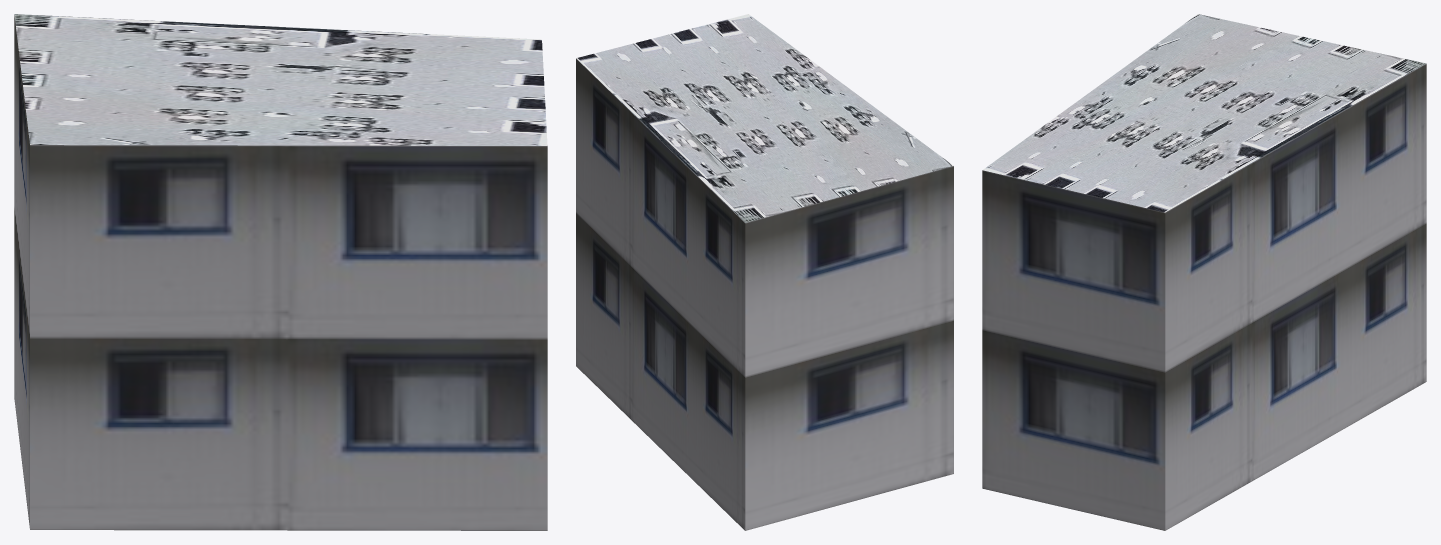
The model's file is ResTex__714.fbx.
3 renders of one model, left to right at view 1: azimuth 30°, elevation 25°; view 2: azimuth 150°, elevation 25°; view 3: azimuth 270°, elevation 25°, orthographic. The views are drawn at different scales.
Visible parts, largest first — view 1: CityEngineMaterial_9_m, CityEngineMaterial_4_m; view 2: CityEngineMaterial_9_m, CityEngineMaterial_4_m; view 3: CityEngineMaterial_9_m, CityEngineMaterial_4_m.
Boxes of the visible parts, x1,y1,x2,y2 form: CityEngineMaterial_9_m: (14, 15, 547, 530); CityEngineMaterial_4_m: (14, 14, 547, 145); CityEngineMaterial_9_m: (576, 58, 953, 530); CityEngineMaterial_4_m: (576, 14, 953, 222); CityEngineMaterial_9_m: (982, 63, 1426, 530); CityEngineMaterial_4_m: (982, 14, 1426, 212).
Size of the model in its own units: 8.03 by 6 by 7.59.
Materials: 2 (2 with a texture image).
